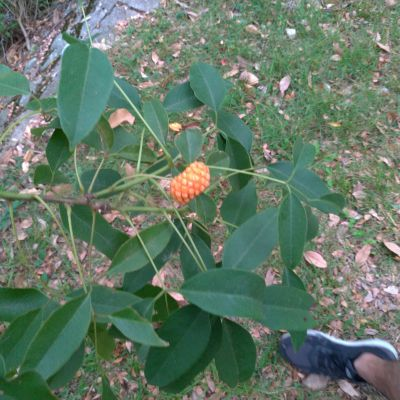eggs: (167, 159, 212, 204)
